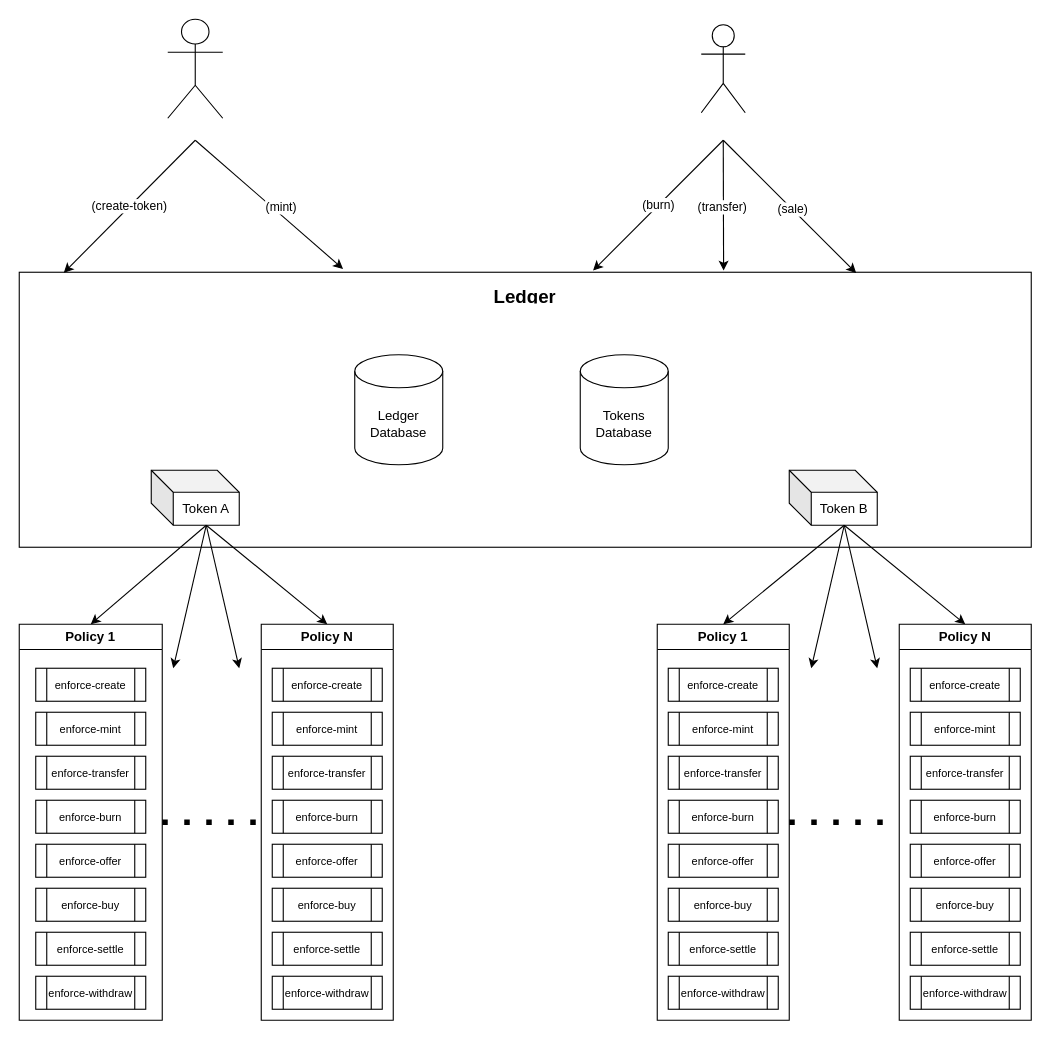
This 1051x1040 diagram has some shape labels left out. The shapes that lost their labels are listed below. From the top down, each one's box as (x1, y1, x2, y2) in pixels, then its label:
(167, 18, 223, 118): Creator
(700, 24, 745, 113): User /Marketplace
